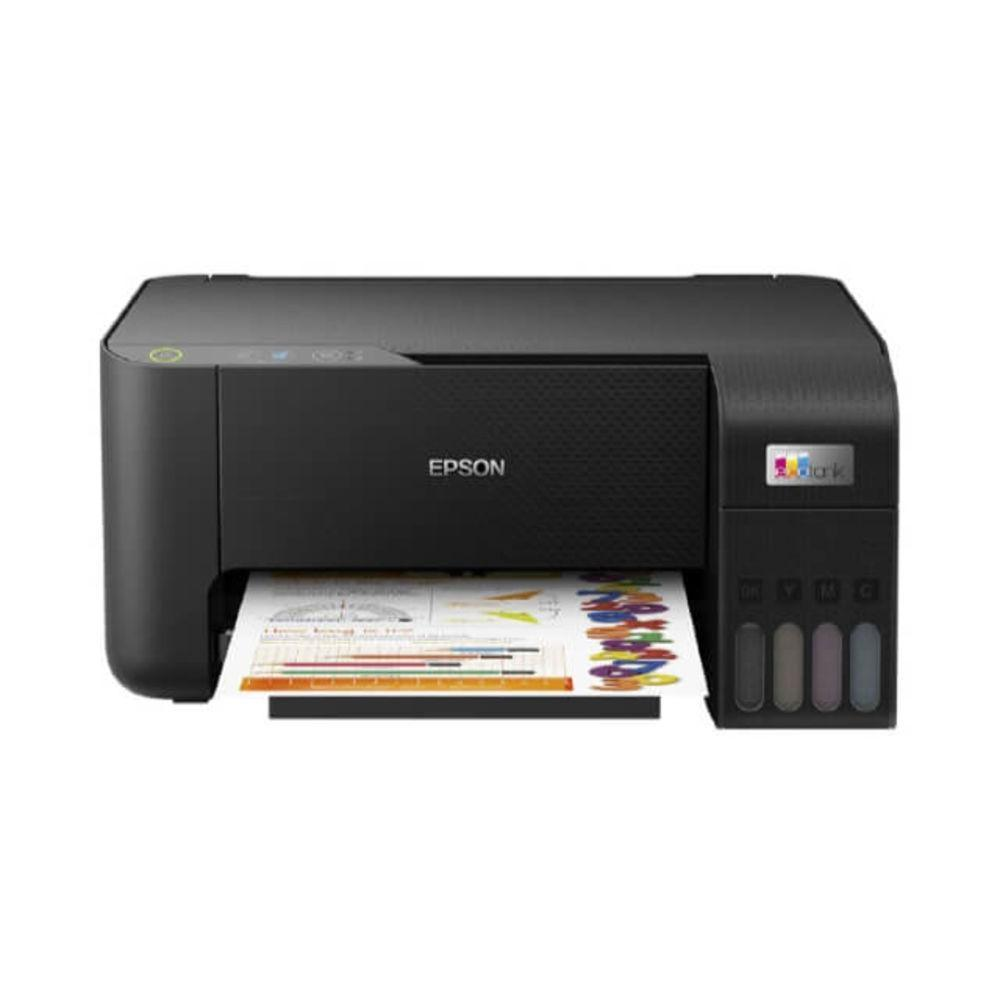Printer: (98, 274, 898, 729)
